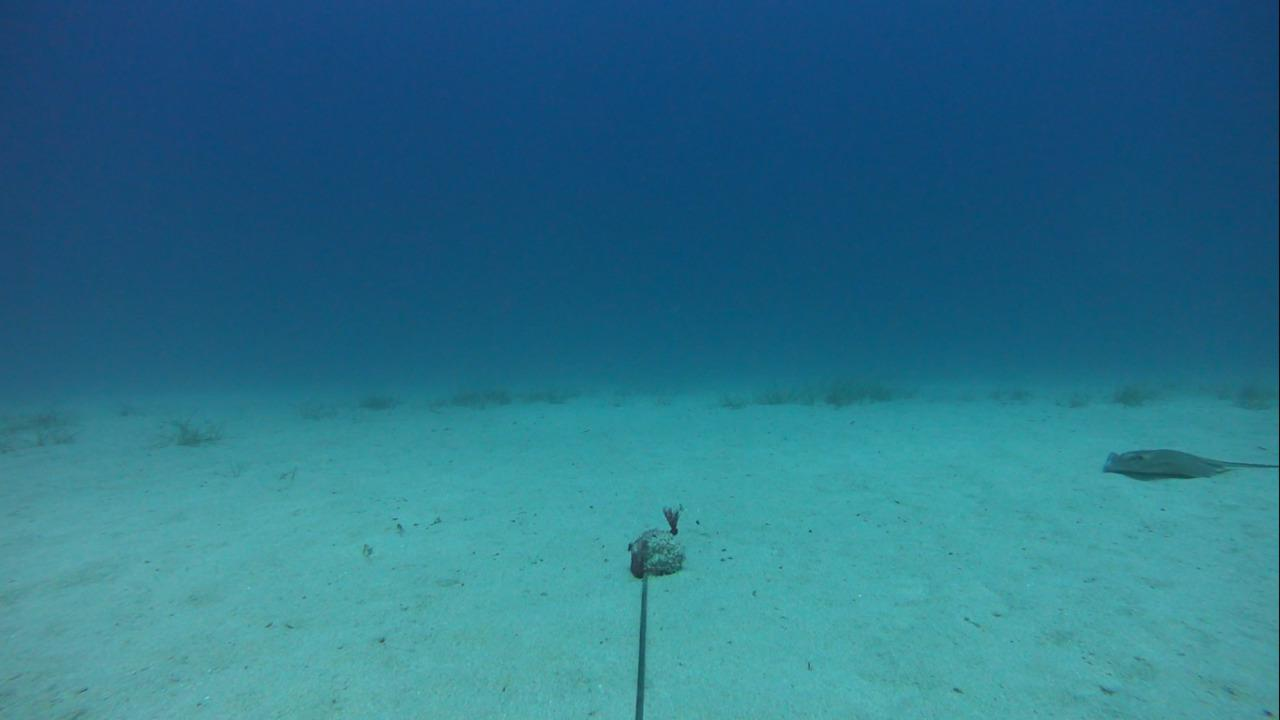myliobatis: (1092, 441, 1279, 489)
